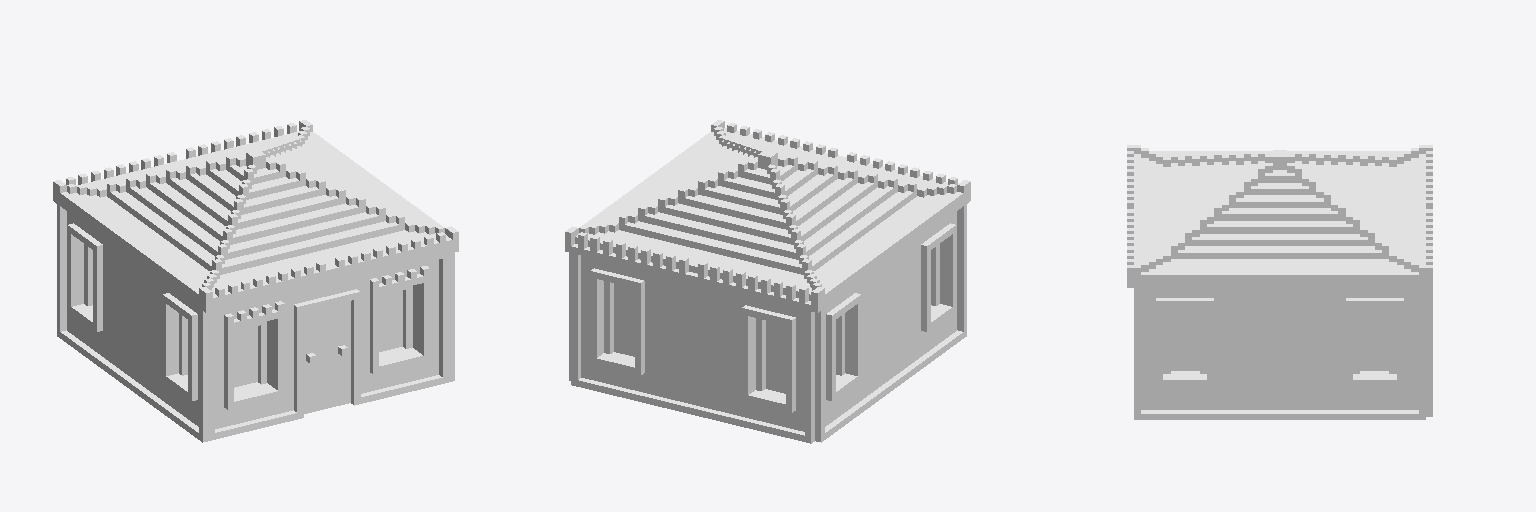
Rendered from PortugueseHouse.obj.
3 views of the same model, side by side, from view 1: azimuth 30°, elevation 25°; view 2: azimuth 150°, elevation 25°; view 3: azimuth 270°, elevation 25° (orthographic).
Parts seen in each view (by area): view 1: object 1; view 2: object 1; view 3: object 1.
Part boxes in pixels (x1,y1,x2,y2): object 1: (53, 120, 458, 442); object 1: (565, 120, 970, 443); object 1: (1127, 145, 1432, 419).
Size of the model in its own units: 4 by 3.1 by 4.2.